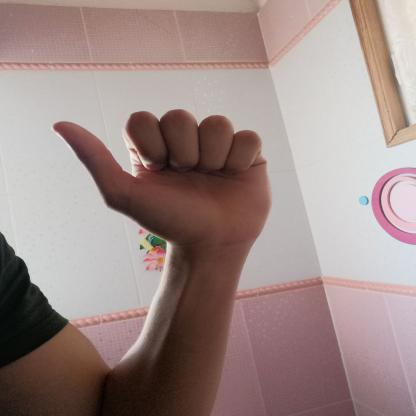DAD: (38, 101, 286, 261)
